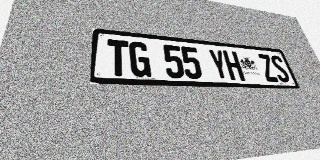5: (163, 44, 186, 79), (180, 46, 203, 79)
G: (129, 41, 152, 77)
H: (222, 50, 245, 81)
S: (269, 55, 292, 82)
T: (107, 39, 130, 77)
Y: (207, 49, 231, 80)
Z: (257, 54, 280, 82)
